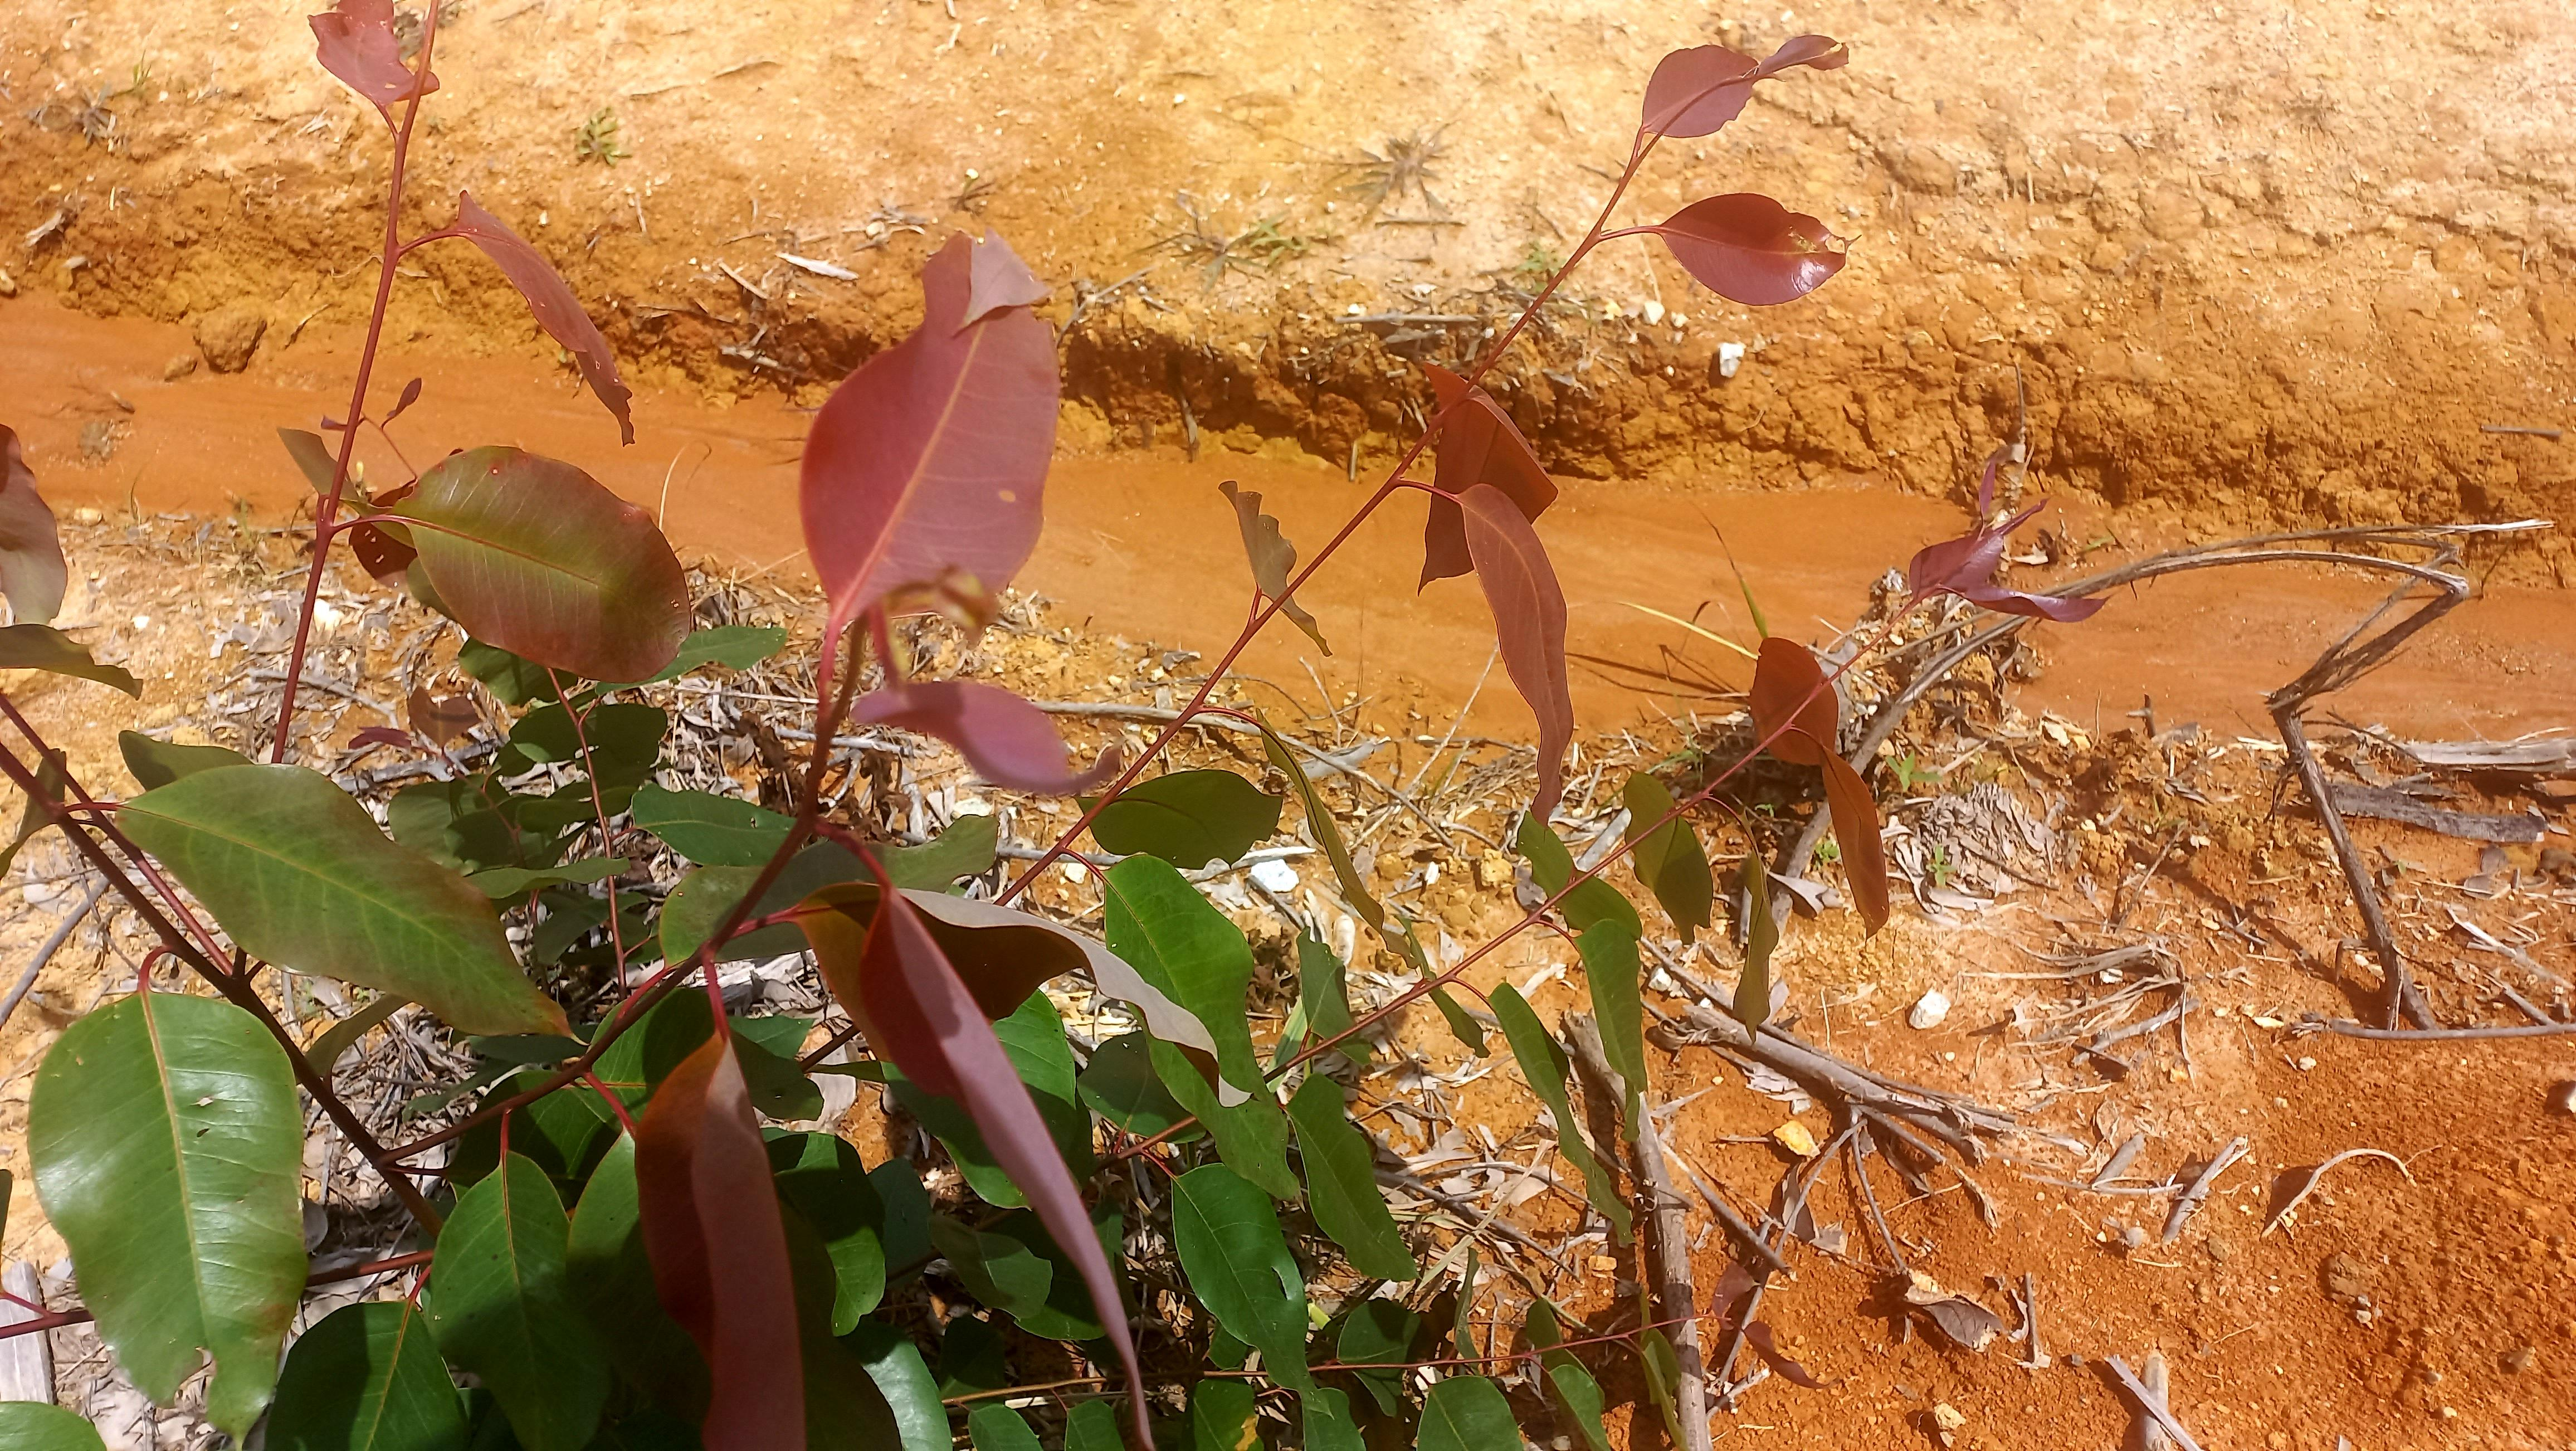Helopeltis-Withered Sprout: (862, 550, 1028, 664)
Leaf Roller - Leaf: (1900, 469, 2112, 635), (1652, 191, 1852, 315), (1656, 34, 1856, 136)
